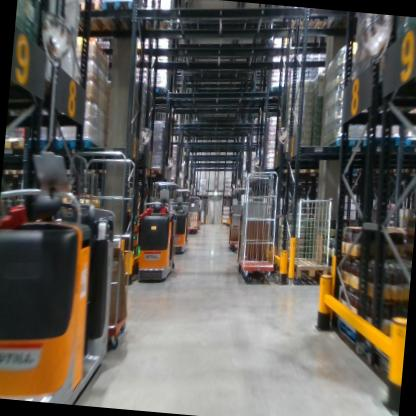pallet: (96, 0, 152, 46), (276, 251, 334, 289), (67, 0, 118, 42), (287, 13, 333, 51), (137, 0, 180, 40), (56, 135, 111, 160), (325, 132, 372, 160), (365, 132, 403, 157), (20, 130, 56, 153), (266, 84, 291, 109), (282, 164, 302, 186), (5, 135, 26, 153), (150, 81, 170, 98), (401, 134, 416, 154), (301, 166, 323, 176)
pallet_truck: (0, 130, 138, 406), (134, 169, 184, 283), (229, 191, 281, 285), (164, 179, 198, 263), (226, 188, 249, 263), (188, 193, 206, 236)
